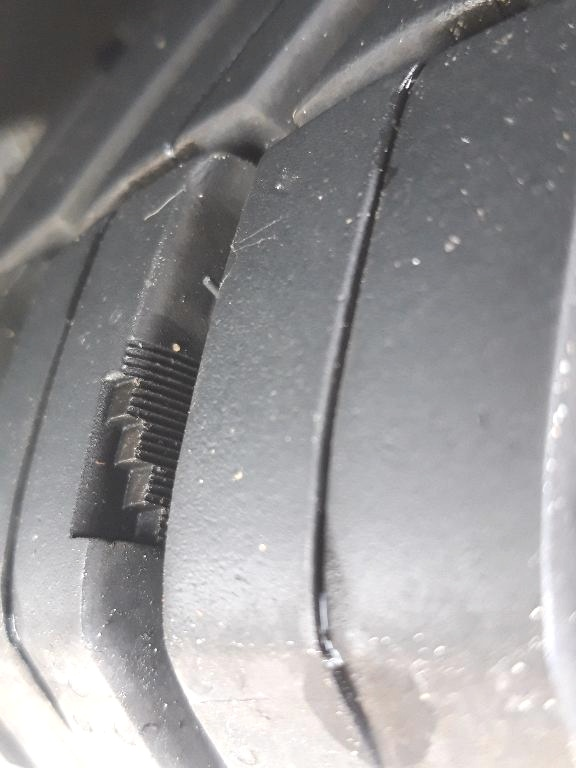temoin:90: (59, 331, 208, 560)
